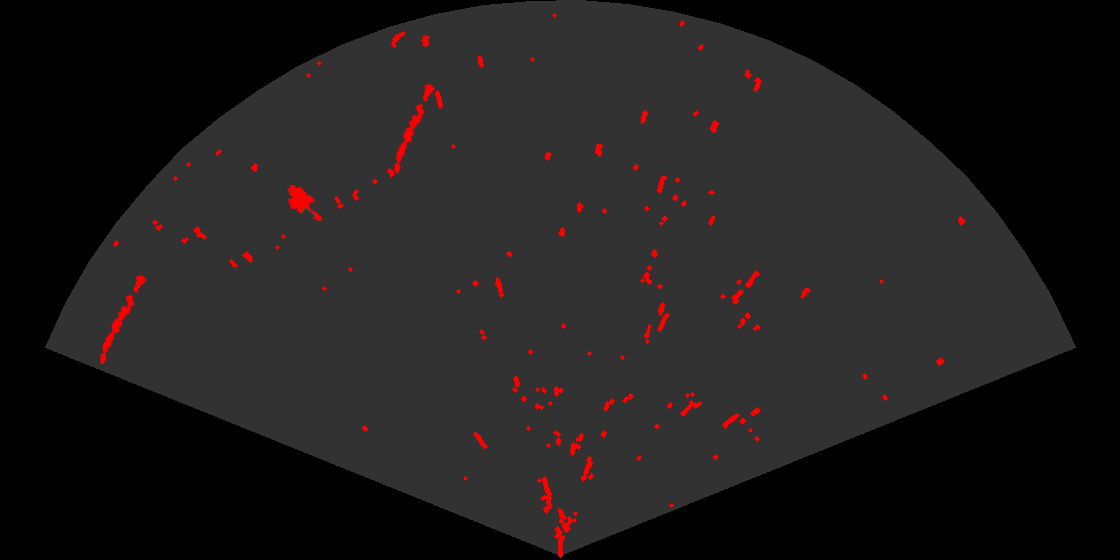AUV: (286, 183, 324, 223)
chain: (98, 273, 148, 366), (393, 82, 437, 175)
